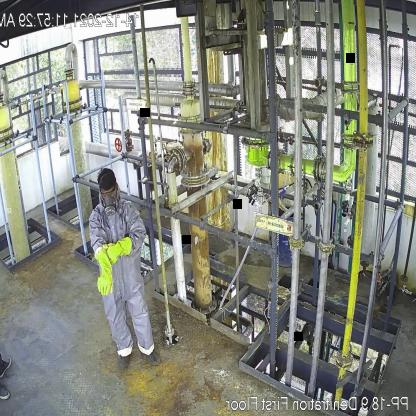goggles: (100, 188, 116, 198)
mask: (102, 196, 118, 218)
